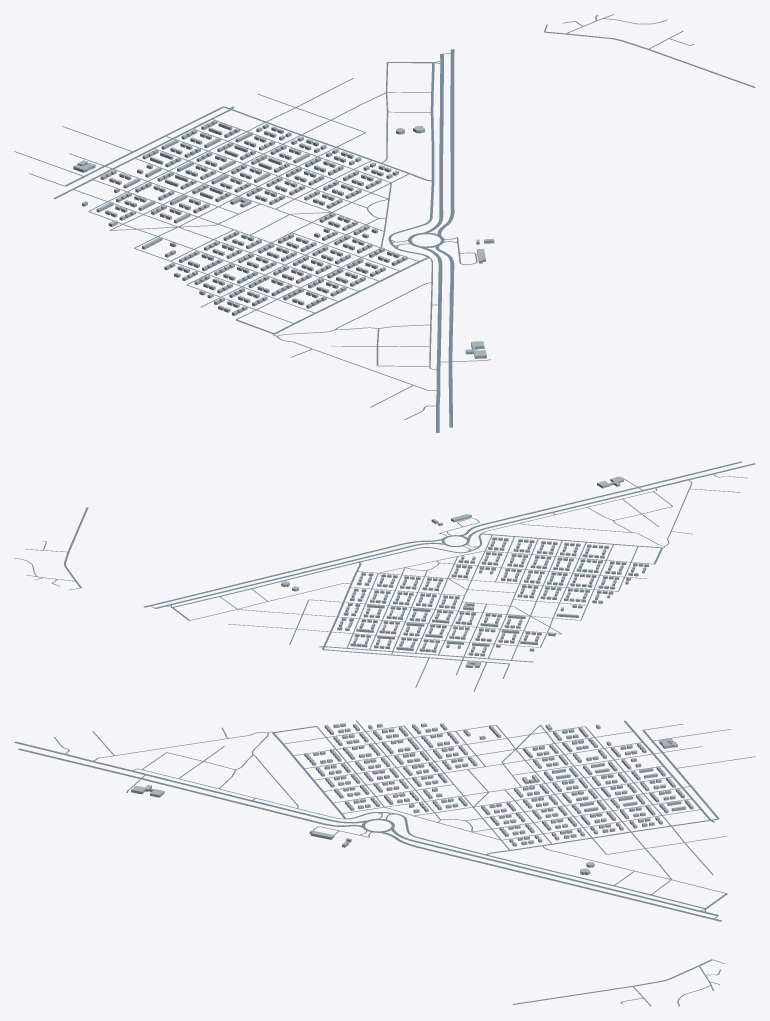
The picture shows the model from 3 angles, top to bottom: view 1: azimuth 30°, elevation 25°; view 2: azimuth 150°, elevation 25°; view 3: azimuth 270°, elevation 25°; orthographic projection. The views are drawn at different scales.
Size of the model in its own units: 1968 by 8 by 2156.
